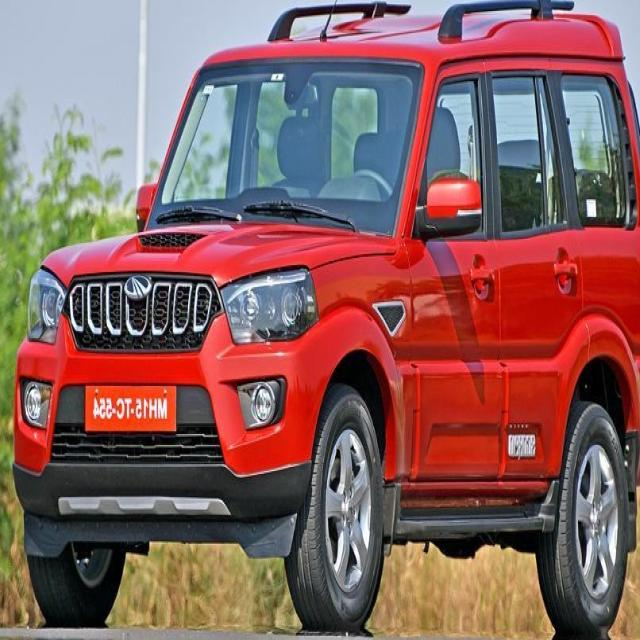number-plate: (63, 360, 186, 444)
